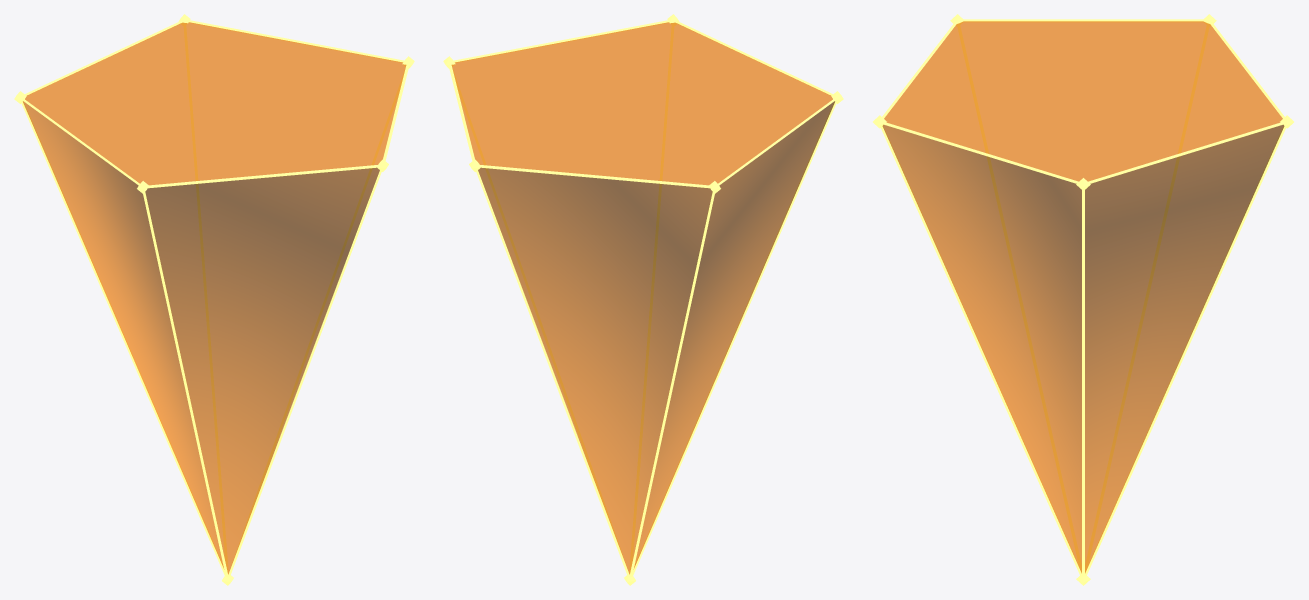
3 renders of one model, left to right at view 1: azimuth 30°, elevation 25°; view 2: azimuth 150°, elevation 25°; view 3: azimuth 270°, elevation 25°, orthographic. The views are drawn at different scales.
Parts seen in each view (by area): view 1: Cylinder003, Cylinder007; view 2: Cylinder003, Cylinder007; view 3: Cylinder003, Cylinder007.
Boxes of the visible parts, left/top/right/bottom form: Cylinder003: left=23, top=22, right=406, bottom=574; Cylinder007: left=14, top=14, right=414, bottom=585; Cylinder003: left=451, top=22, right=834, bottom=574; Cylinder007: left=443, top=14, right=843, bottom=585; Cylinder003: left=882, top=21, right=1284, bottom=573; Cylinder007: left=873, top=14, right=1293, bottom=585.
Bounding box in the file's own units: 1.04 × 1.42 × 1.09.
2 materials, 1 textured.
